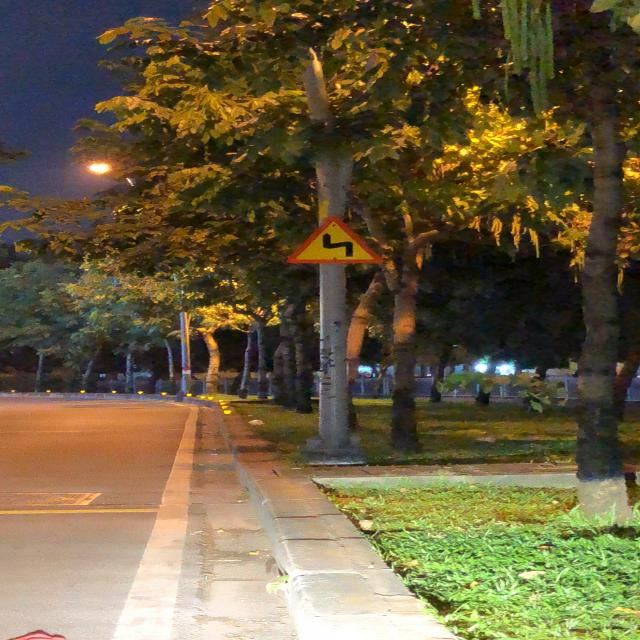Bien bao nhieu cho ngoat nguy hiem lien tiep: (281, 214, 384, 269)
